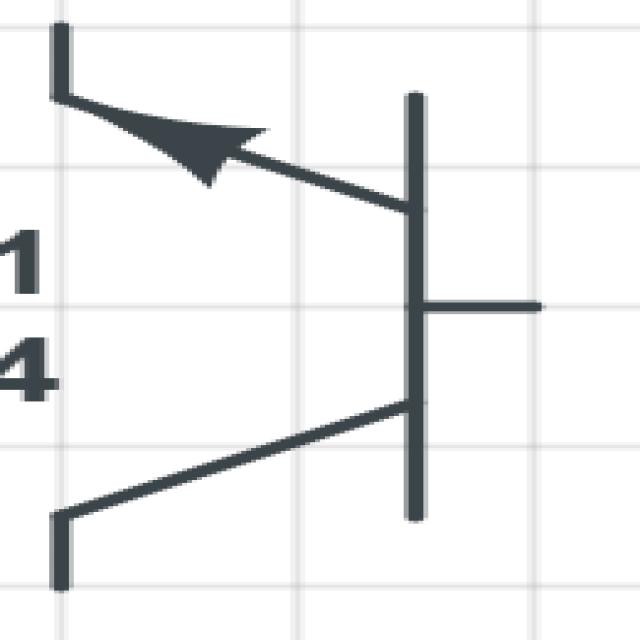bjt: (37, 14, 598, 618)
